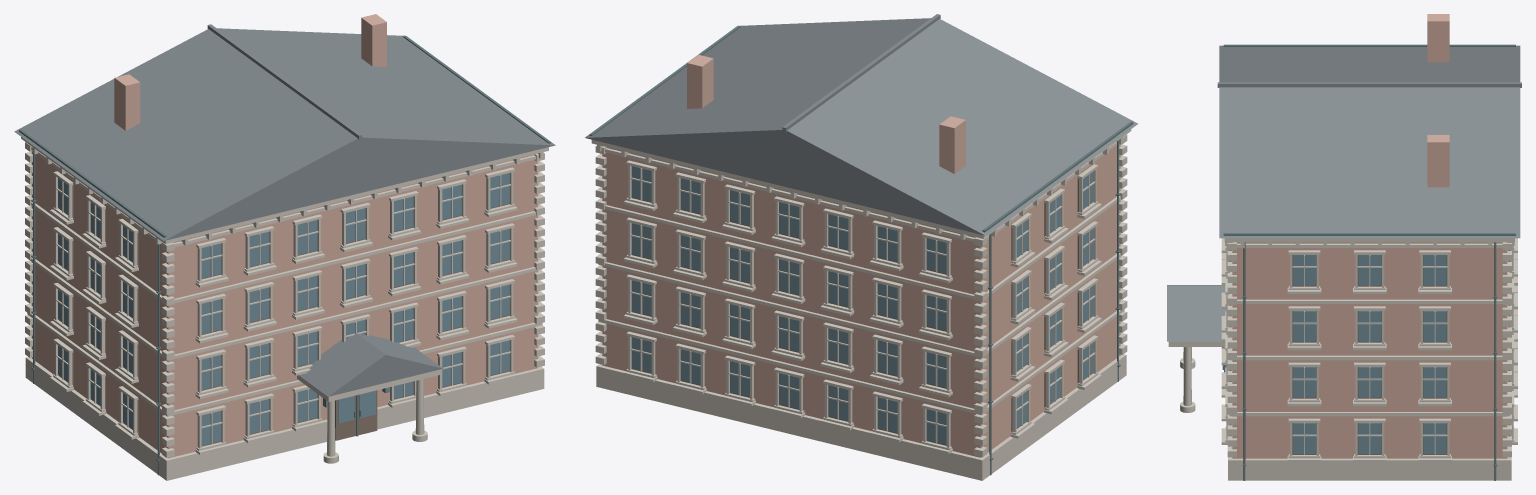
The model's file is humanities.glb.
3 renders of one model, left to right at view 1: azimuth 30°, elevation 25°; view 2: azimuth 150°, elevation 25°; view 3: azimuth 270°, elevation 25°, orthographic. The views are drawn at different scales.
Parts seen in each view (by area): view 1: humanities-roof, humanities-stone, humanities-brick, humanities-glass, humanities-wood, humanities-metal; view 2: humanities-roof, humanities-stone, humanities-brick, humanities-glass, humanities-wood, humanities-metal; view 3: humanities-roof, humanities-brick, humanities-stone, humanities-glass, humanities-metal, humanities-wood.
Boxes of the visible parts, x1=… form: humanities-roof: x1=14, y1=24, x2=555, y2=396; humanities-stone: x1=21, y1=137, x2=548, y2=480; humanities-brick: x1=31, y1=14, x2=538, y2=458; humanities-glass: x1=58, y1=173, x2=509, y2=445; humanities-wood: x1=58, y1=173, x2=509, y2=446; humanities-metal: x1=19, y1=35, x2=550, y2=475; humanities-roof: x1=585, y1=14, x2=1138, y2=235; humanities-stone: x1=591, y1=129, x2=1131, y2=480; humanities-brick: x1=602, y1=54, x2=1120, y2=457; humanities-glass: x1=631, y1=166, x2=1093, y2=444; humanities-wood: x1=631, y1=171, x2=1092, y2=445; humanities-metal: x1=589, y1=25, x2=1133, y2=475; humanities-roof: x1=1167, y1=45, x2=1521, y2=341; humanities-brick: x1=1232, y1=14, x2=1507, y2=458; humanities-stone: x1=1168, y1=238, x2=1517, y2=480; humanities-glass: x1=1224, y1=255, x2=1446, y2=453; humanities-metal: x1=1222, y1=44, x2=1515, y2=480; humanities-wood: x1=1229, y1=250, x2=1509, y2=454.
Bounding box in the file's own units: 26.5 × 19.9 × 20.65.
